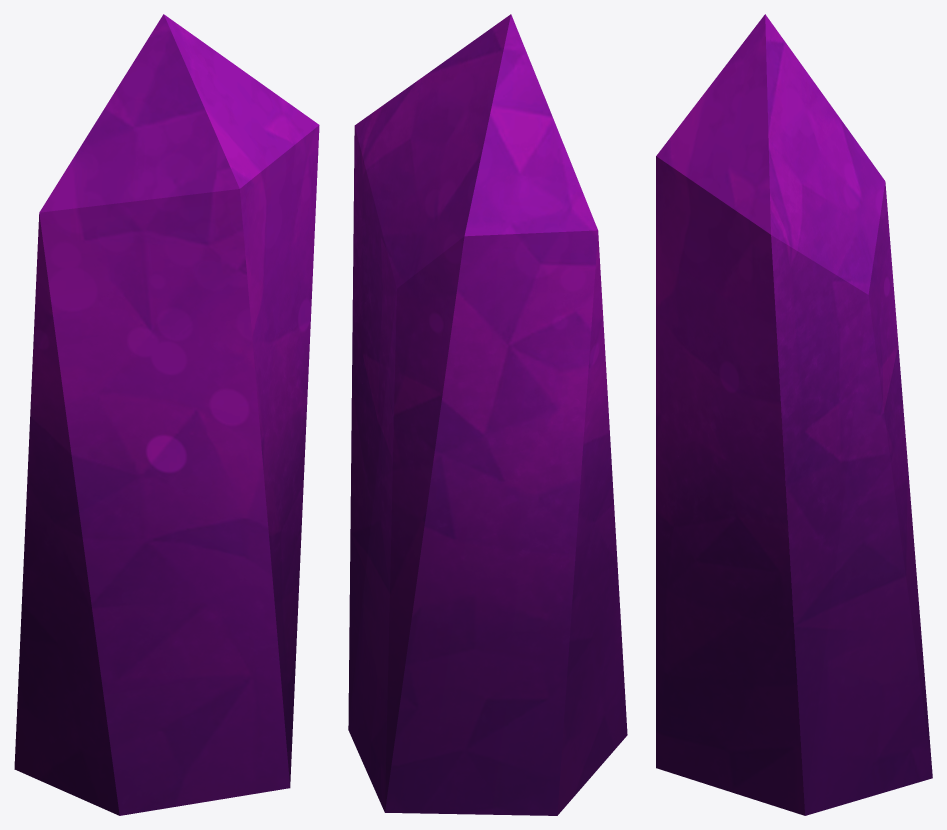
File: P_CRYSTAL FRAGMENT 6.fbx
The picture shows the model from 3 angles, left to right: view 1: azimuth 30°, elevation 25°; view 2: azimuth 150°, elevation 25°; view 3: azimuth 270°, elevation 25°; orthographic projection. The views are drawn at different scales.
Visible parts, largest first — view 1: Crystal Fragment_6; view 2: Crystal Fragment_6; view 3: Crystal Fragment_6.
Part boxes in pixels (box(x1,y1,x2,y2)): Crystal Fragment_6: box(14, 14, 319, 815); Crystal Fragment_6: box(348, 14, 627, 815); Crystal Fragment_6: box(656, 14, 932, 815).
Bounding box in the file's own units: 59.08 × 164 × 55.3.
